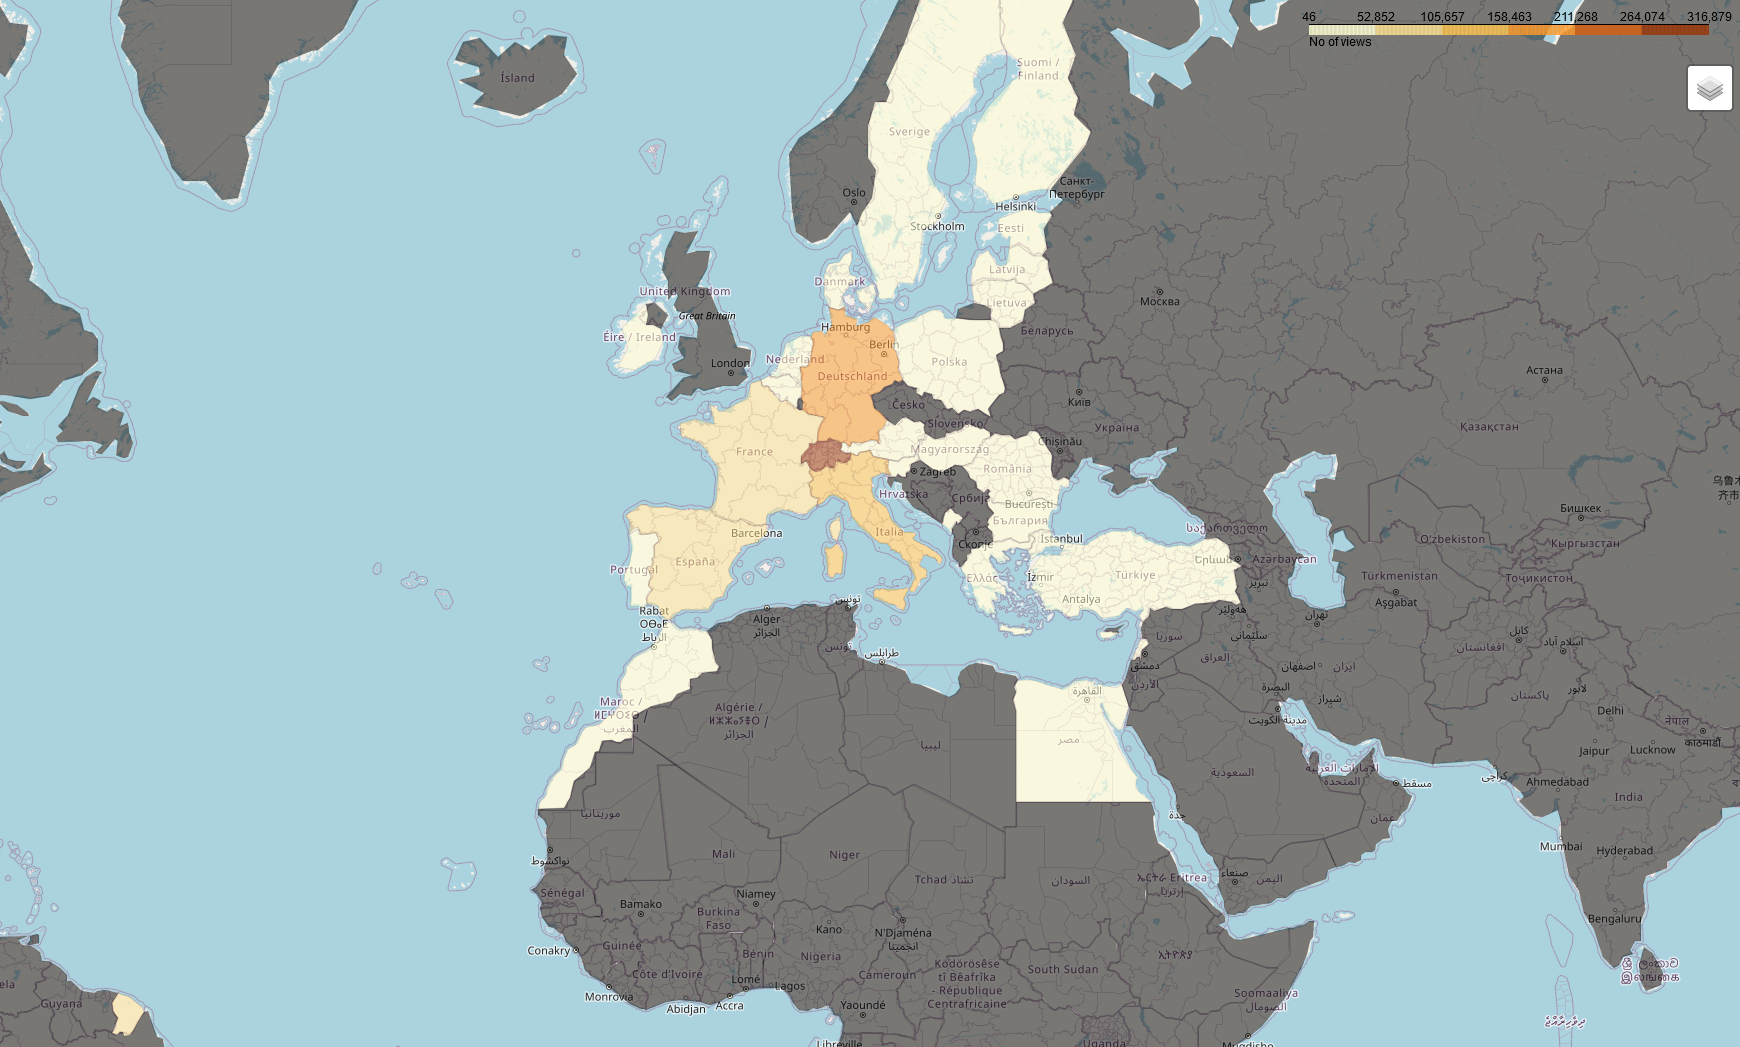

This screenshot's page, from the dashboard's own definition file:
{"tool":"tableau","page":{"name":"Dashboard 9","canvas":[650,860],"ordinal":7},"visuals":[{"type":"text","box":[66,133.2,511,215]}]}

Visuals, with their boxes on the page's 650x860 design canvas (x1, y1, x2, y2). These are canvas units, not pixel positions in the 1740x1047 screenshot, which may show the page scaled, cropped or inside an application window:
text: BBox(66, 133, 577, 348)
